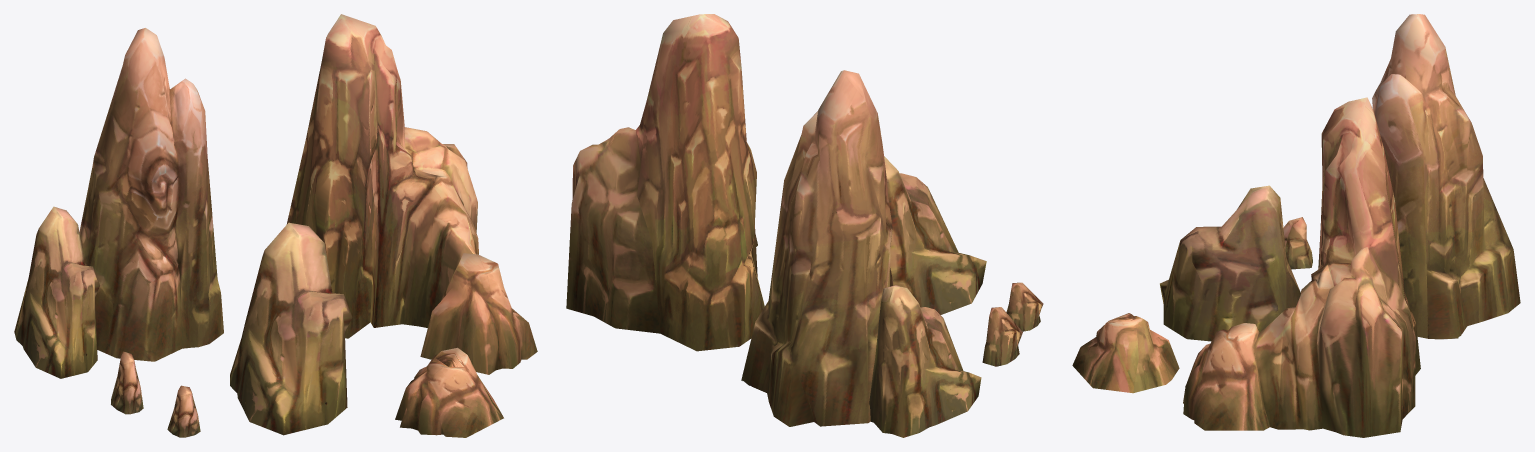
3 renders of one model, left to right at view 1: azimuth 30°, elevation 25°; view 2: azimuth 150°, elevation 25°; view 3: azimuth 270°, elevation 25°, orthographic. The views are drawn at different scales.
Parts seen in each view (by area): view 1: 大山1, 大山2, 中山2, 中山1, 小山; view 2: 大山1, 大山2, 中山2, 小山; view 3: 大山2, 大山1, 中山2, 中山1.
Part boxes in pixels (bbox=[...]): 大山1: bbox=[14, 28, 223, 414]; 大山2: bbox=[286, 14, 537, 374]; 中山2: bbox=[230, 222, 352, 435]; 中山1: bbox=[395, 347, 503, 437]; 小山: bbox=[167, 385, 200, 437]; 大山1: bbox=[741, 70, 1022, 437]; 大山2: bbox=[566, 14, 764, 351]; 中山2: bbox=[884, 156, 986, 314]; 小山: bbox=[1006, 282, 1043, 331]; 大山2: bbox=[1183, 97, 1420, 437]; 大山1: bbox=[1283, 14, 1520, 339]; 中山2: bbox=[1160, 185, 1300, 341]; 中山1: bbox=[1072, 313, 1179, 393].
Size of the model in its own units: 207 by 149 by 209.
2 materials, 2 textured.
